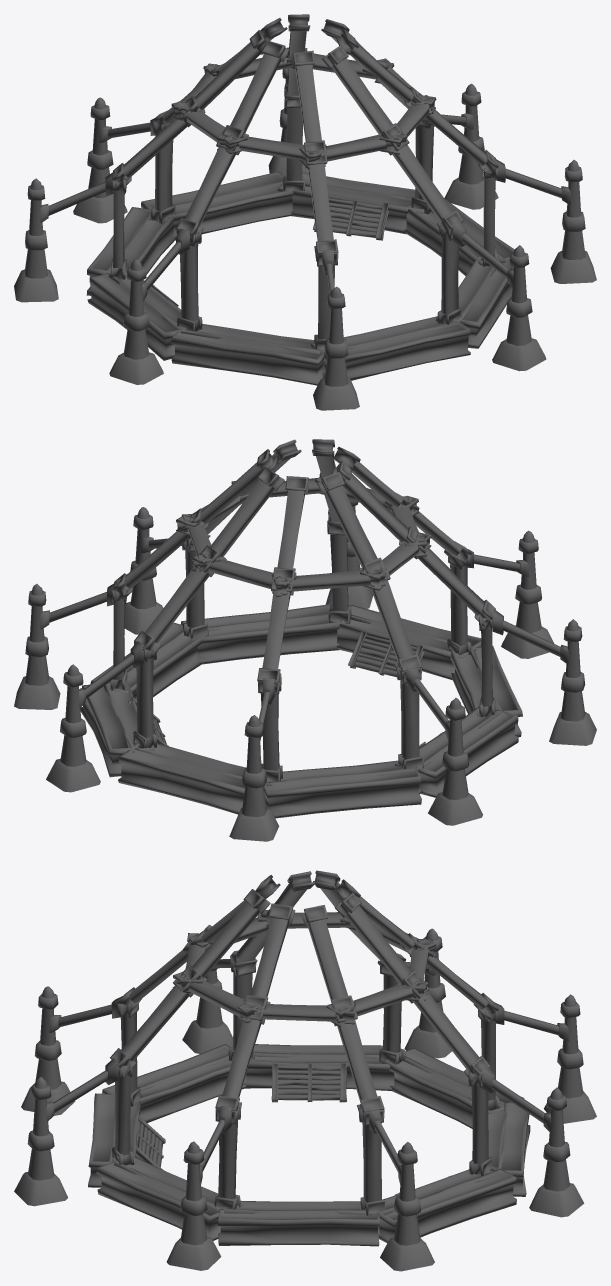
The model's file is Practiceplace_2.fbx.
The picture shows the model from 3 angles, top to bottom: view 1: azimuth 30°, elevation 25°; view 2: azimuth 150°, elevation 25°; view 3: azimuth 270°, elevation 25°; orthographic projection. The views are drawn at different scales.
Parts seen in each view (by area): view 1: ed_codhouse01; view 2: ed_codhouse01; view 3: ed_codhouse01.
Boxes of the visible parts, x1,y1,x2,y2 form: ed_codhouse01: (14,14,596,410); ed_codhouse01: (14,439,596,841); ed_codhouse01: (14,870,596,1271).
Size of the model in its own units: 11756 by 6249 by 12068.
